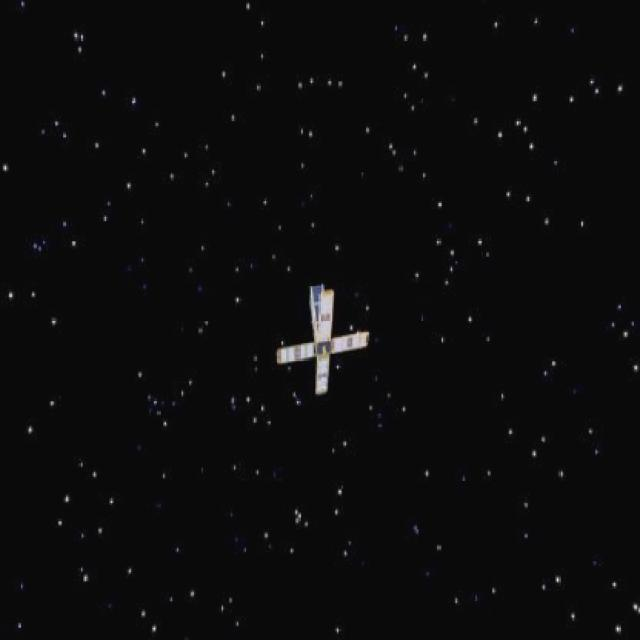medium_debris: (267, 283, 383, 400)
